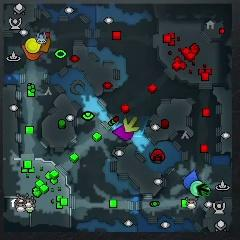p1: (183, 170, 198, 190)
p2: (190, 180, 210, 196)
p3: (112, 125, 133, 140)
p4: (25, 38, 41, 53)
p5: (21, 44, 40, 60)
x2: (124, 117, 139, 132)
x4Clone: (196, 183, 208, 195)
x5: (39, 36, 51, 53)
